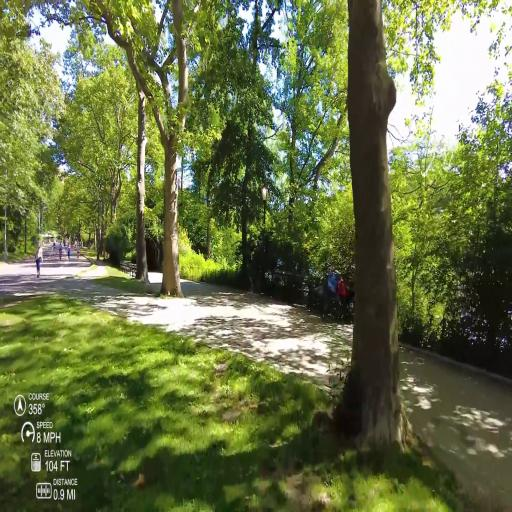Street_Light: (72, 152, 103, 264)
